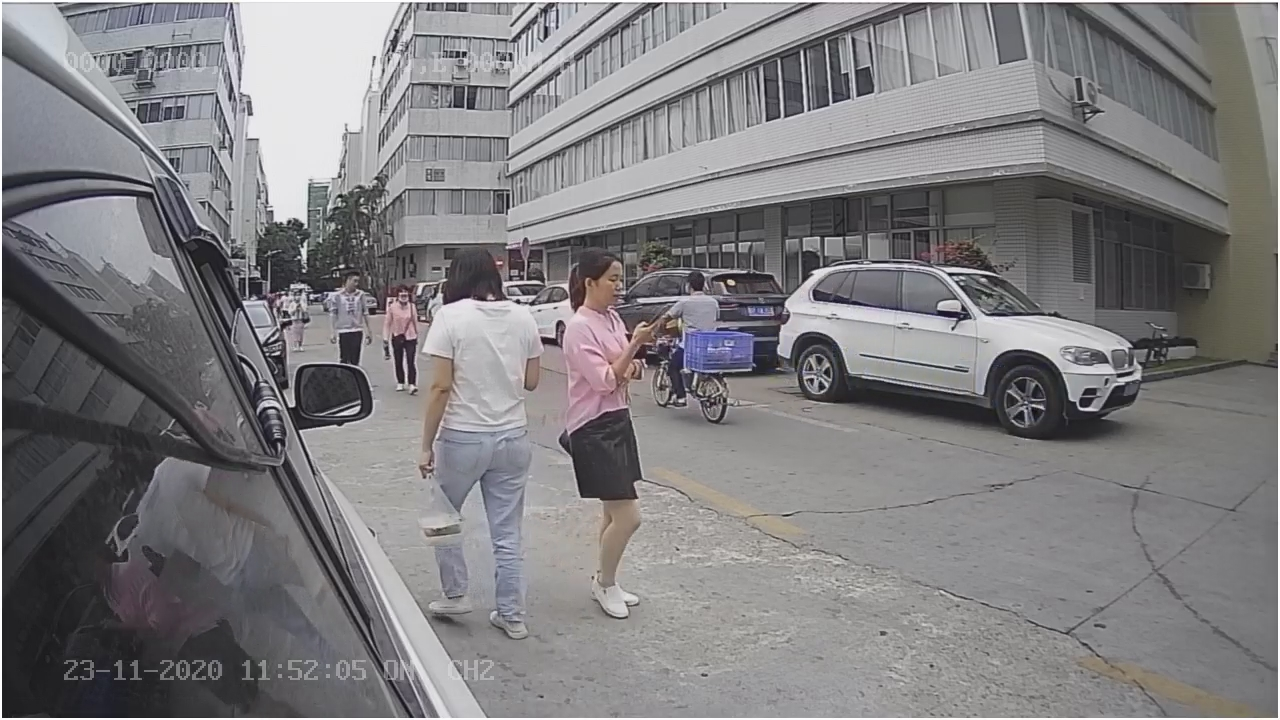person: (413, 244, 555, 638), (650, 256, 720, 331)
